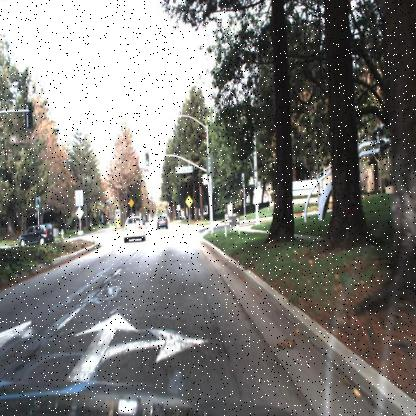car: (18, 222, 55, 252), (124, 214, 146, 245), (156, 214, 168, 230)
trafficLight-Green: (144, 151, 150, 168)
